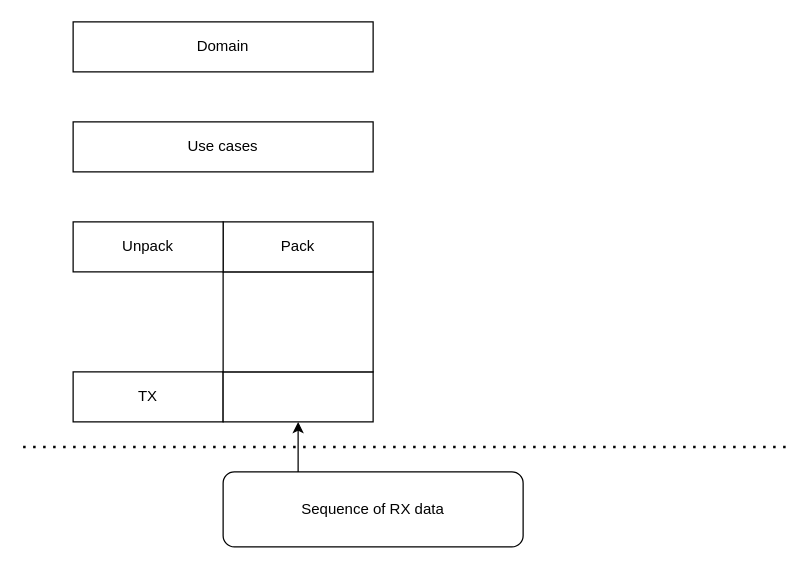
This 809x569 diagram has some shape labels left out. Here are the shapes that lost their labels. From the top down, the centre of each, then its label:
At point (297, 321): "parser (FSM)".
At point (297, 396): "RX".
